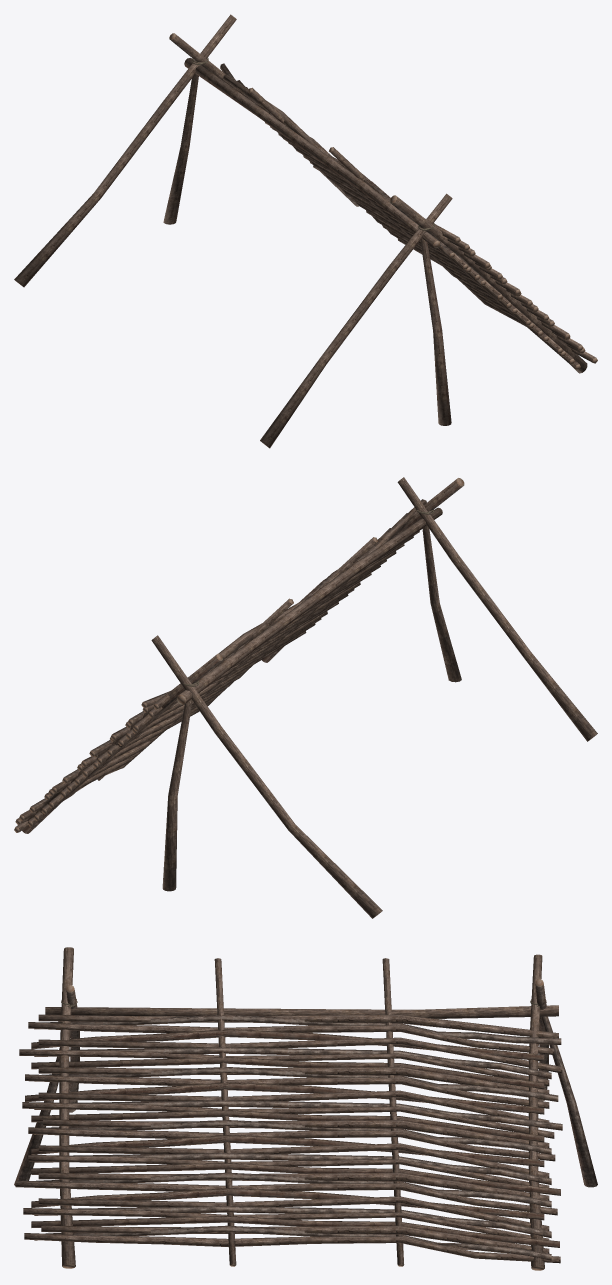
File: hut7.fbx
3 views of the same model, one above another, from view 1: azimuth 30°, elevation 25°; view 2: azimuth 150°, elevation 25°; view 3: azimuth 270°, elevation 25° (orthographic). The views are drawn at different scales.
Visible parts, largest first — view 1: Cylinder; view 2: Cylinder; view 3: Cylinder.
Boxes of the visible parts, x1,y1,x2,y2 form: Cylinder: (14, 14, 597, 448); Cylinder: (14, 477, 597, 918); Cylinder: (14, 947, 597, 1270).
Size of the model in its own units: 125 by 76.18 by 176.
